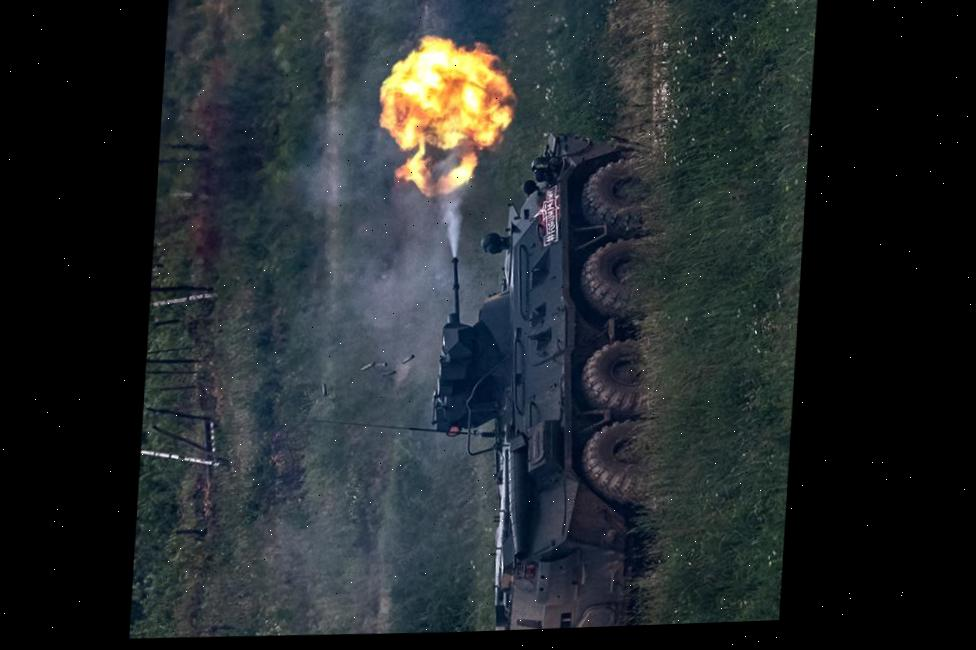tank: (416, 123, 682, 634)
